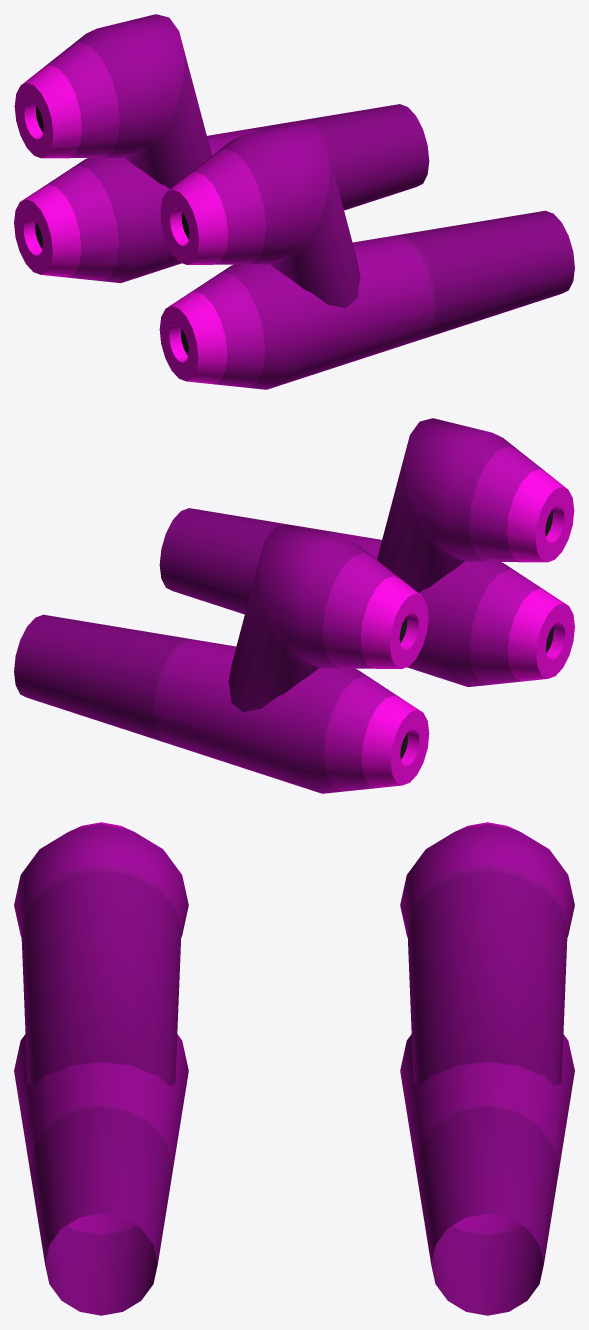
File: Pink_Exhaust.FBX
3 views of the same model, one above another, from view 1: azimuth 30°, elevation 25°; view 2: azimuth 150°, elevation 25°; view 3: azimuth 270°, elevation 25° (orthographic). The views are drawn at different scales.
Visible parts, largest first — view 1: Exhaust_Pink; view 2: Exhaust_Pink; view 3: Exhaust_Pink.
Part boxes in pixels (x1=…): Exhaust_Pink: x1=14, y1=14, x2=574, y2=389; Exhaust_Pink: x1=14, y1=418, x2=574, y2=793; Exhaust_Pink: x1=14, y1=822, x2=574, y2=1315.
Size of the model in its own units: 73.35 by 46.03 by 71.76.
